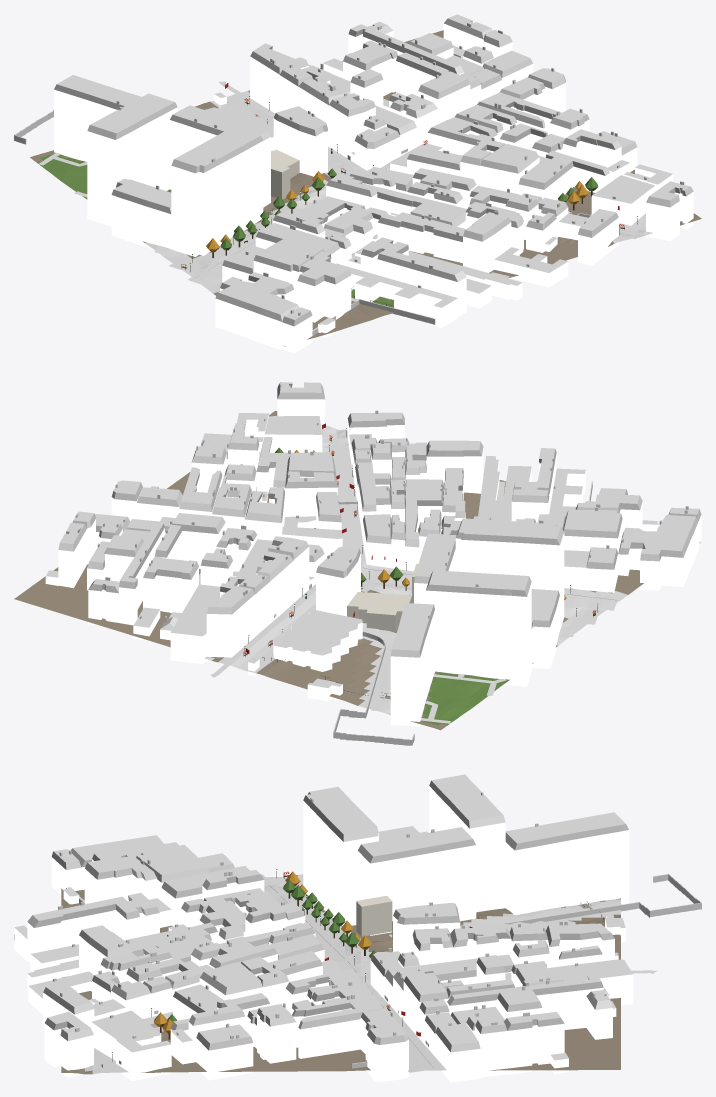
The model's file is zone_G5.glb.
3 renders of one model, top to bottom at view 1: azimuth 30°, elevation 25°; view 2: azimuth 150°, elevation 25°; view 3: azimuth 270°, elevation 25°, orthographic. The views are drawn at different scales.
Parts seen in each view (by area): view 1: zone_G5_batiments, zone_G5_terrain, zone_G5_sol_NOCOL, zone_G5_decor_NOCOL; view 2: zone_G5_batiments, zone_G5_terrain, zone_G5_sol_NOCOL, zone_G5_decor_NOCOL; view 3: zone_G5_batiments, zone_G5_terrain, zone_G5_sol_NOCOL, zone_G5_decor_NOCOL.
Boxes of the visible parts, box(x1,y1,x2,y2) form: zone_G5_batiments: box(14, 14, 693, 353); zone_G5_terrain: box(30, 30, 701, 346); zone_G5_sol_NOCOL: box(39, 81, 645, 330); zone_G5_decor_NOCOL: box(190, 96, 637, 305); zone_G5_batiments: box(45, 382, 701, 745); zone_G5_terrain: box(14, 410, 701, 730); zone_G5_sol_NOCOL: box(210, 428, 617, 723); zone_G5_decor_NOCOL: box(244, 428, 597, 696); zone_G5_batiments: box(14, 774, 701, 1082); zone_G5_terrain: box(61, 877, 620, 1074); zone_G5_sol_NOCOL: box(79, 874, 657, 1073); zone_G5_decor_NOCOL: box(112, 869, 603, 1061).
Size of the model in its own units: 218 by 45.97 by 262.
